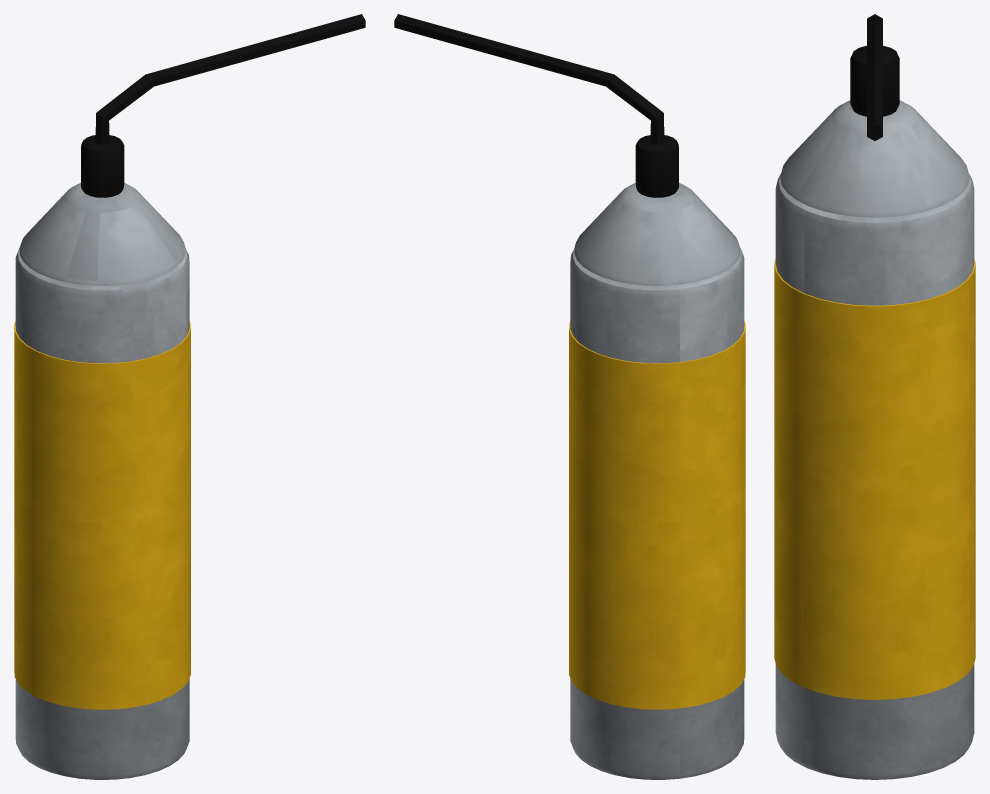
Rendered from ALV-FIX-003.glb.
3 renders of one model, left to right at view 1: azimuth 30°, elevation 25°; view 2: azimuth 150°, elevation 25°; view 3: azimuth 270°, elevation 25°, orthographic. The views are drawn at different scales.
Parts seen in each view (by area): view 1: ALV-FIX-003_rotulo, ALV-FIX-003_lata, ALV-FIX-003_ombro, ALV-FIX-003_tubo, ALV-FIX-003_valvula; view 2: ALV-FIX-003_rotulo, ALV-FIX-003_lata, ALV-FIX-003_ombro, ALV-FIX-003_tubo, ALV-FIX-003_valvula; view 3: ALV-FIX-003_rotulo, ALV-FIX-003_lata, ALV-FIX-003_ombro, ALV-FIX-003_valvula, ALV-FIX-003_tubo.
Part boxes in pixels (bbox=[...]): ALV-FIX-003_rotulo: bbox=[14, 321, 190, 709]; ALV-FIX-003_lata: bbox=[15, 248, 189, 779]; ALV-FIX-003_ombro: bbox=[19, 183, 185, 285]; ALV-FIX-003_tubo: bbox=[95, 14, 365, 144]; ALV-FIX-003_valvula: bbox=[81, 135, 124, 197]; ALV-FIX-003_rotulo: bbox=[569, 321, 745, 709]; ALV-FIX-003_lata: bbox=[570, 248, 744, 779]; ALV-FIX-003_ombro: bbox=[574, 183, 740, 285]; ALV-FIX-003_tubo: bbox=[394, 14, 664, 144]; ALV-FIX-003_valvula: bbox=[635, 135, 678, 197]; ALV-FIX-003_rotulo: bbox=[774, 258, 975, 699]; ALV-FIX-003_lata: bbox=[775, 173, 974, 779]; ALV-FIX-003_ombro: bbox=[780, 100, 969, 217]; ALV-FIX-003_valvula: bbox=[850, 45, 899, 116]; ALV-FIX-003_tubo: bbox=[867, 14, 882, 140].
Size of the model in its own units: 0.1426 by 0.271 by 0.065.
3 materials, 3 textured.
